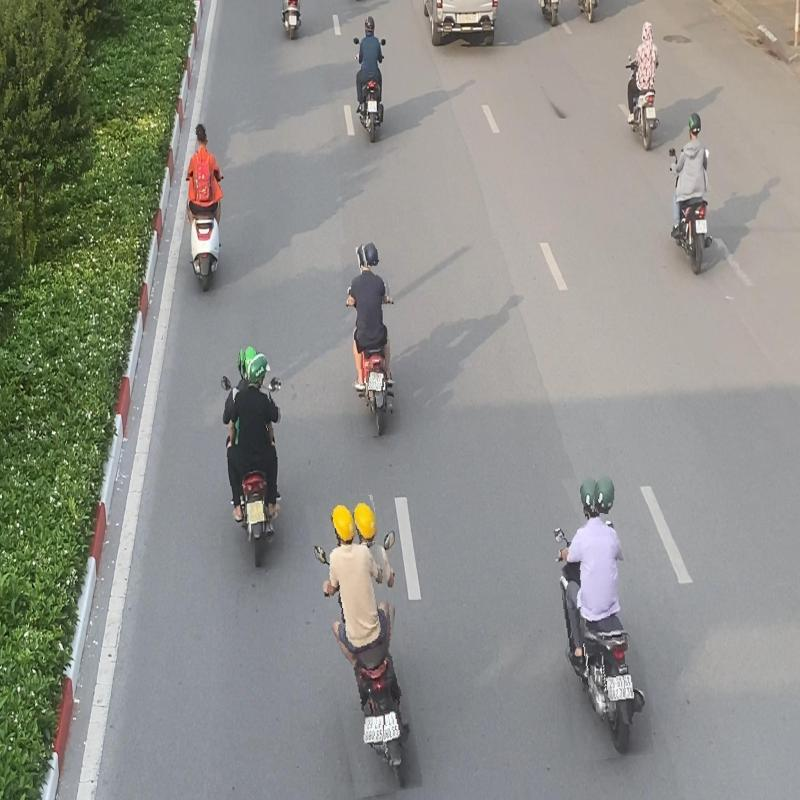helmet: (352, 501, 378, 545), (246, 352, 271, 388), (593, 476, 616, 514), (241, 345, 258, 374), (362, 243, 380, 267)
licenseplate: (363, 714, 385, 746), (246, 500, 266, 526), (607, 676, 627, 702), (368, 372, 384, 392)
motorcyclist: (316, 496, 410, 796), (554, 474, 647, 760), (222, 344, 284, 570), (344, 241, 398, 437)
nohelmet: (196, 123, 208, 146)
